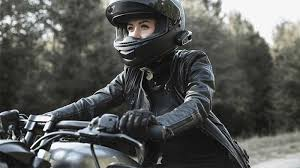com_capacete: (103, 1, 195, 69)
